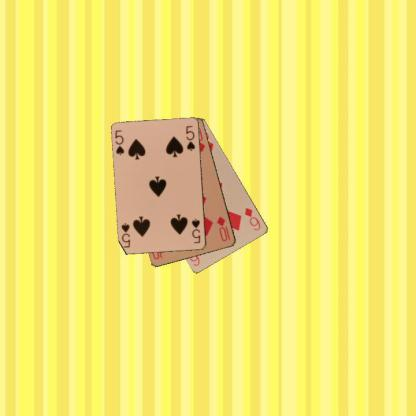10d: (214, 214, 232, 243)
5s: (190, 216, 202, 244), (113, 128, 125, 156)
6d: (242, 205, 262, 232)
